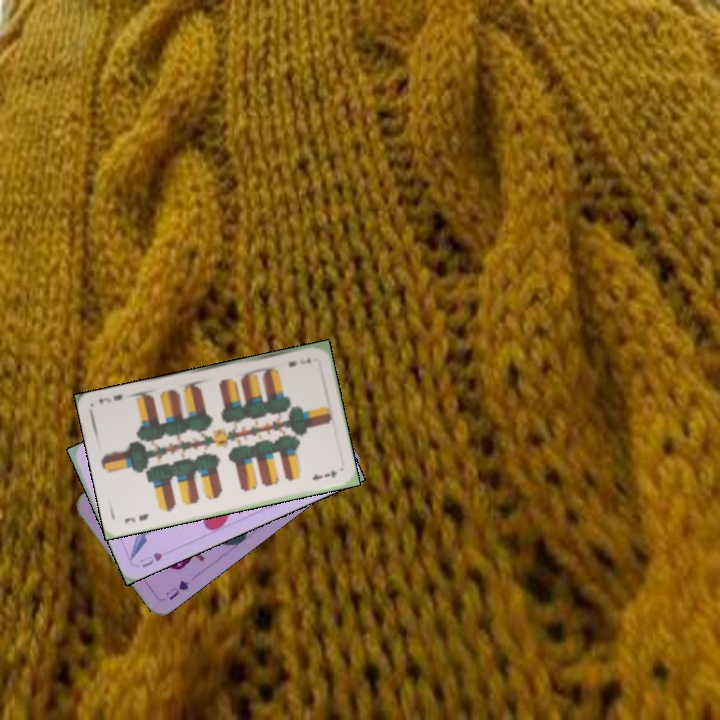E7: (120, 510, 152, 526), (284, 353, 313, 370)
GU: (161, 576, 192, 603)
HU: (136, 548, 165, 570)
